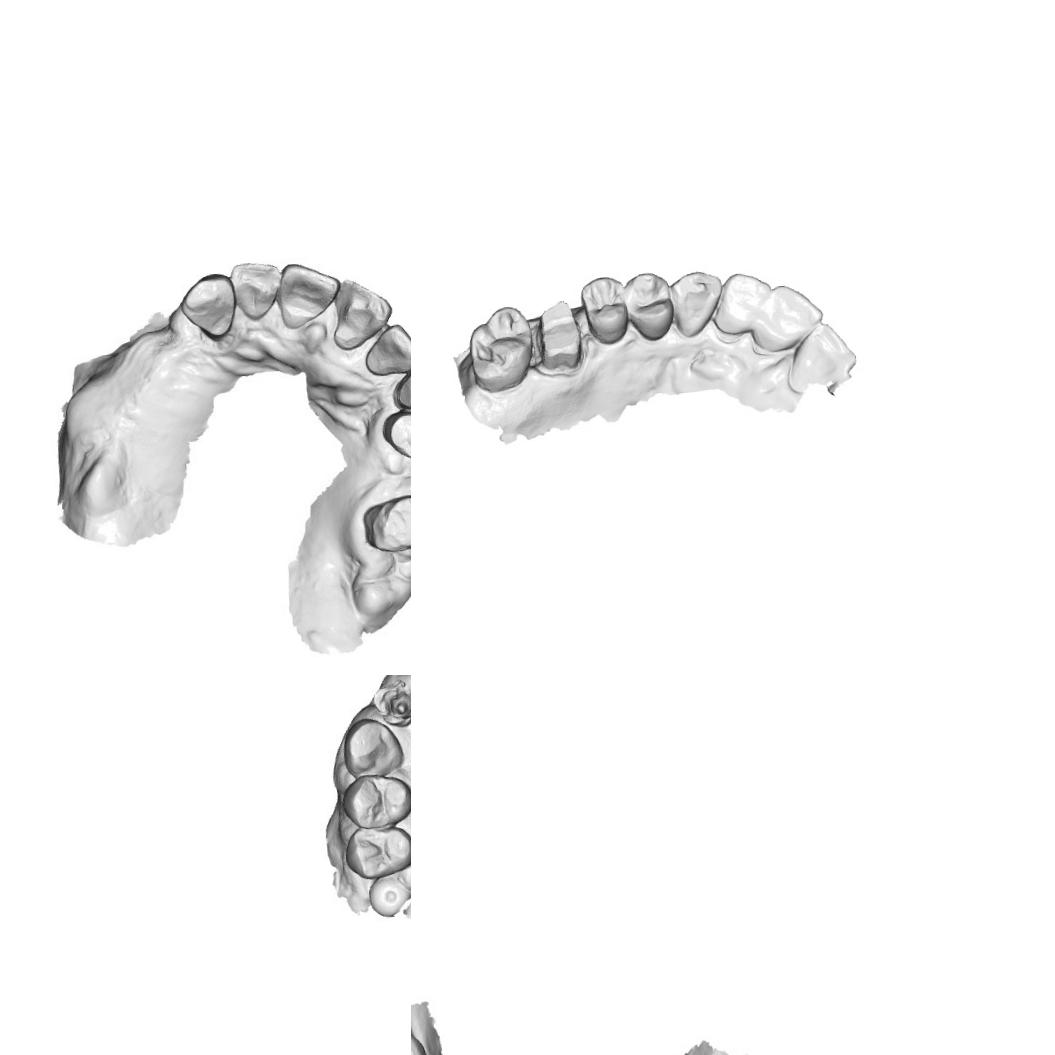canine: (178, 267, 239, 344), (338, 712, 403, 783), (668, 268, 726, 339), (388, 348, 411, 416)
crown: (529, 296, 588, 378), (352, 486, 411, 563)
implant: (382, 684, 411, 726)
incisor: (746, 280, 827, 357), (783, 319, 859, 398), (707, 269, 776, 344), (328, 275, 390, 354), (228, 258, 290, 324), (278, 262, 338, 324), (360, 323, 411, 379)
molar: (464, 302, 537, 395)
premolar: (622, 269, 677, 343), (578, 273, 630, 346), (346, 771, 411, 828), (345, 825, 411, 876), (380, 406, 411, 464)
